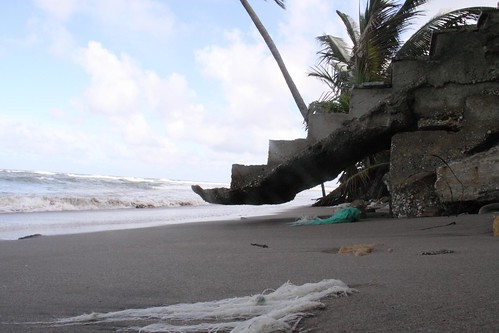beach: (1, 207, 491, 333)
building: (203, 6, 499, 222)
sea: (1, 177, 203, 223)
sky: (8, 1, 327, 163)
tree: (308, 1, 420, 105)
